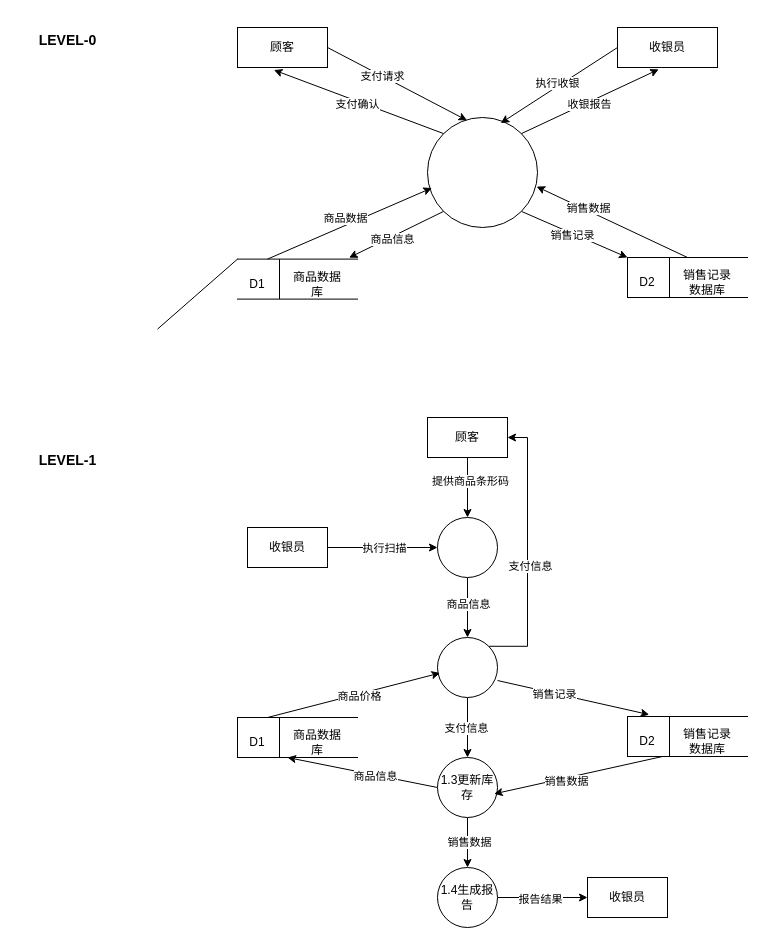
The diagram is 765 pixels wide and 945 high, and some of its shapes have lost their labels. The shapes that lost their labels are listed below. From the top down, each one's centre as x and y in pixels, then its label:
(x=482, y=172): 收银管理
(x=467, y=547): 1.1扫描商品
(x=467, y=667): 1.2处理支付
